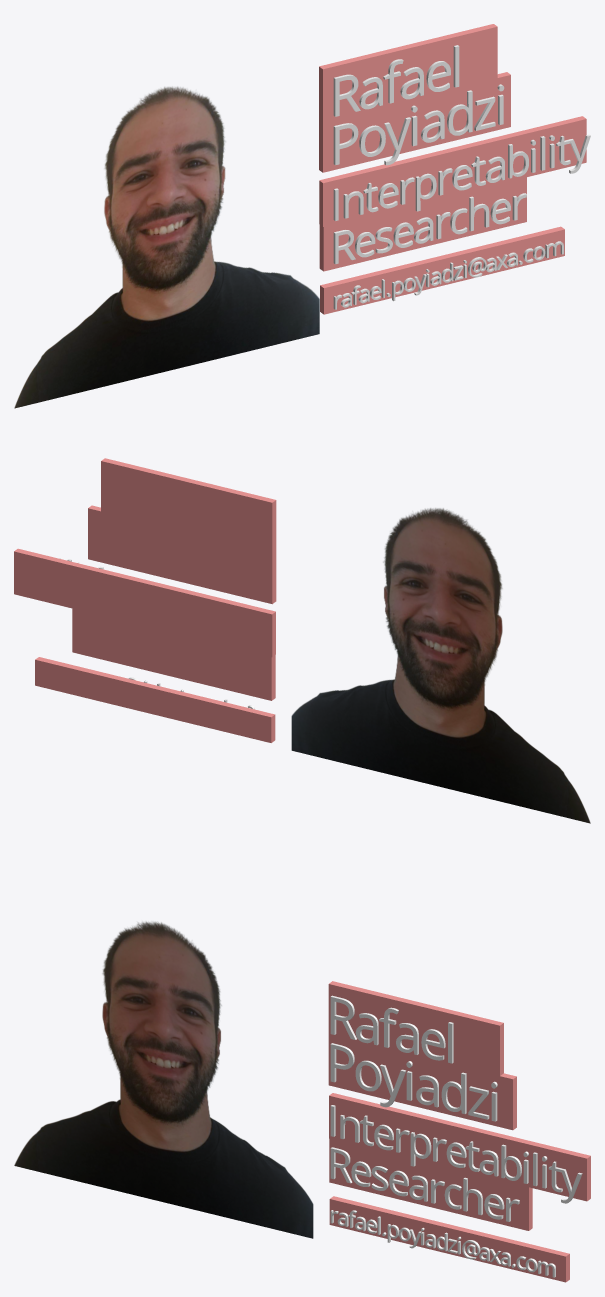
File: Rafael.gltf
The picture shows the model from 3 angles, top to bottom: view 1: azimuth 30°, elevation 25°; view 2: azimuth 150°, elevation 25°; view 3: azimuth 330°, elevation 25°; orthographic projection. The views are drawn at different scales.
Visible parts, largest first — view 1: rafael, Box, Box 2, Box 4, Box 3, Box 1, R, d, P; view 2: rafael, Box, Box 4, Box 2, Box 3, Box 1; view 3: rafael, Box, Box 2, Box 4, Box 3, Box 1, R.
Boxes of the visible parts, x1,y1,x2,y2 form: rafael: (14,86,319,408); Box: (319,116,586,226); Box 2: (319,24,497,121); Box 4: (319,72,510,172); Box 3: (319,177,526,271); Box 1: (320,226,564,314); R: (333,74,360,116); d: (447,90,472,135); P: (333,123,358,165); rafael: (291,508,590,823); Box: (14,548,275,656); Box 4: (88,505,276,604); Box 2: (101,458,276,553); Box 3: (72,608,275,700); Box 1: (35,657,275,742); rafael: (14,921,313,1238); Box: (329,1093,590,1201); Box 2: (328,981,503,1075); Box 4: (328,1035,516,1130); Box 3: (329,1138,532,1230); Box 1: (329,1196,569,1282); R: (330,995,356,1039).
Bounding box in the file's own units: 0.4206 × 0.2221 × 0.0127.
Materials: 9 (1 with a texture image).
